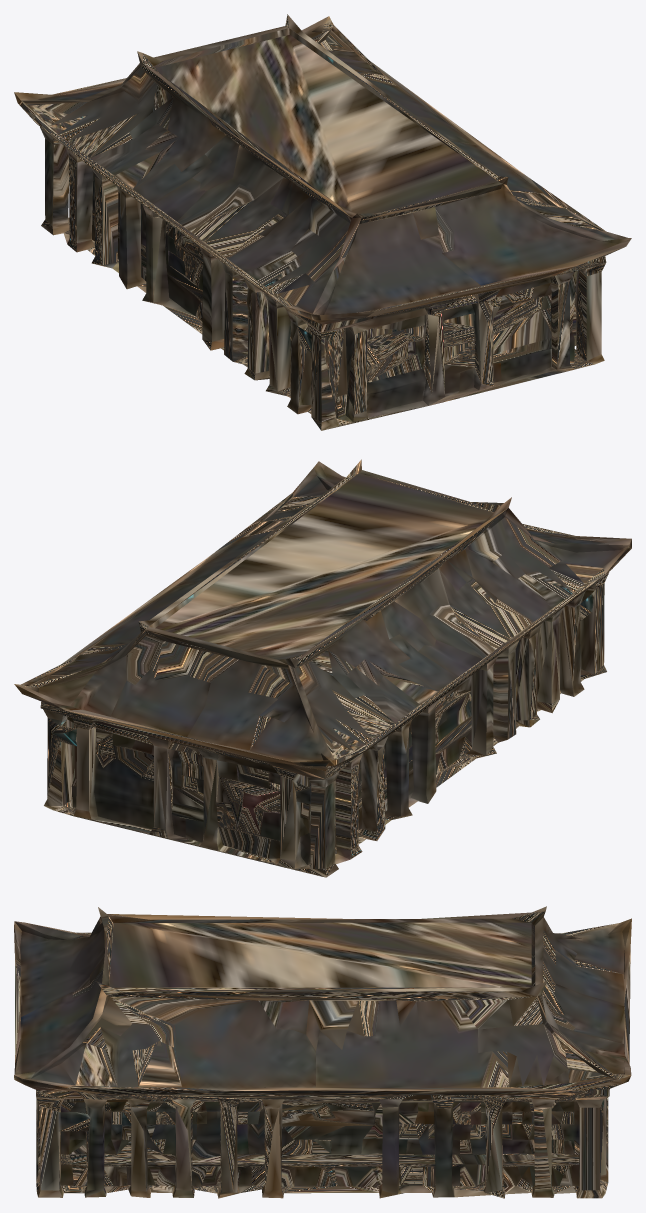
The model's file is c01_far.glb.
3 renders of one model, top to bottom at view 1: azimuth 30°, elevation 25°; view 2: azimuth 150°, elevation 25°; view 3: azimuth 270°, elevation 25°, orthographic.
Parts seen in each view (by area): view 1: c01_far; view 2: c01_far; view 3: c01_far.
Part boxes in pixels (<box>): c01_far: <box>14,14,631,430</box>; c01_far: <box>14,459,631,877</box>; c01_far: <box>14,906,631,1198</box>.
Bounding box in the file's own units: 108 × 60 × 180.
Materials: 1 (1 with a texture image).
